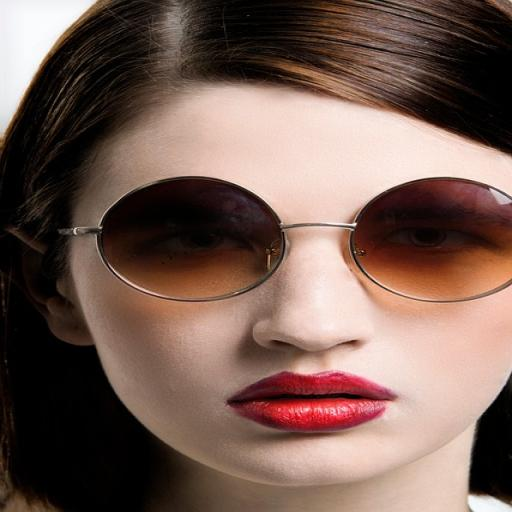lipstick: (228, 372, 395, 432)
